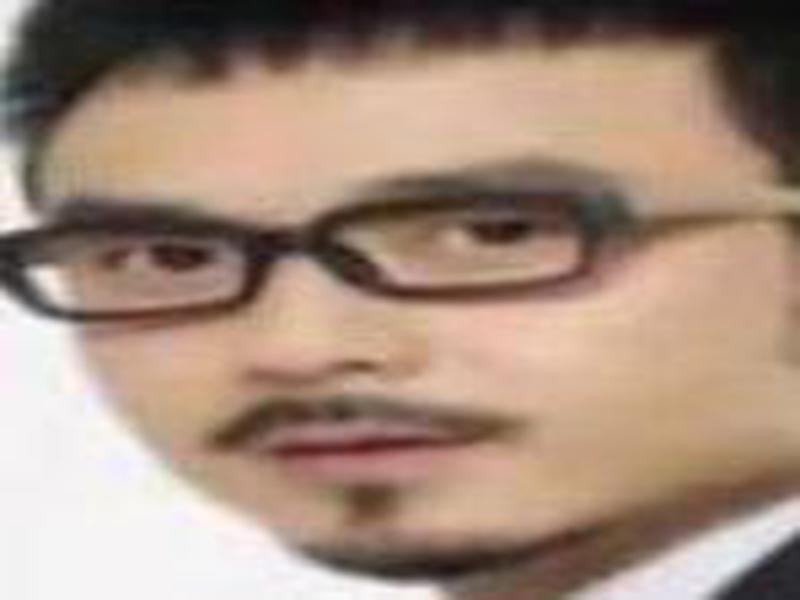without_mask: (28, 134, 756, 580)
